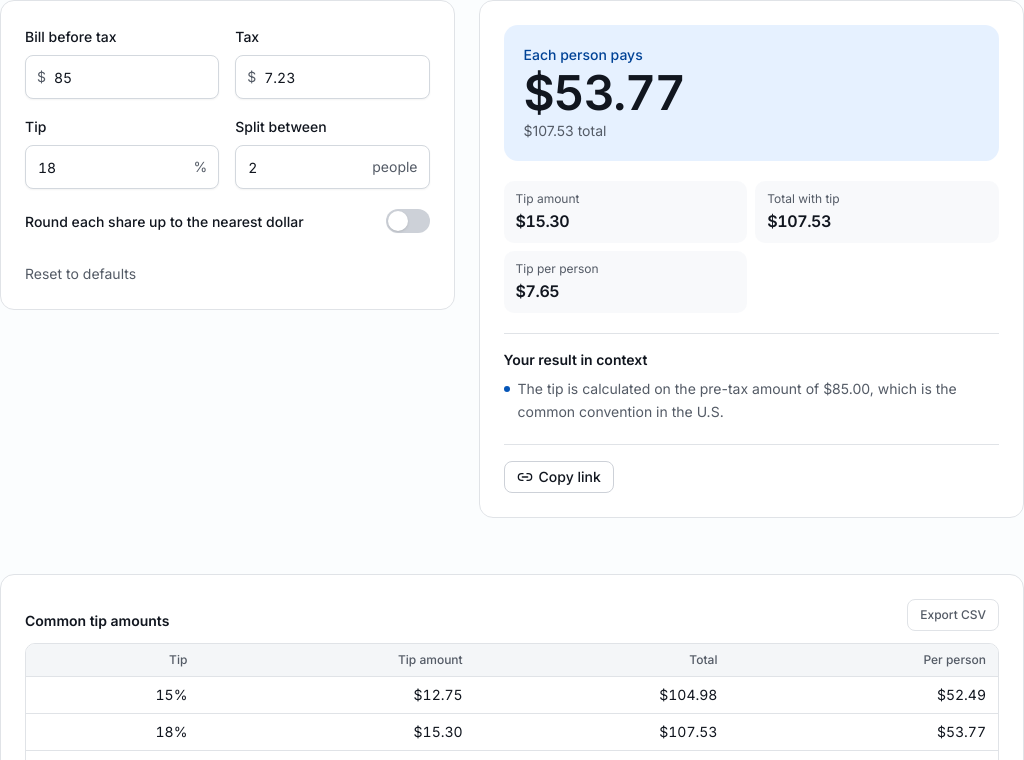
Scenario: CalculatorEngine › recalculates as the user types, replacing selected text
Click the field labelled "Split between" at coordinates (332, 167), box x1=235 y1=145 x2=430 y2=189
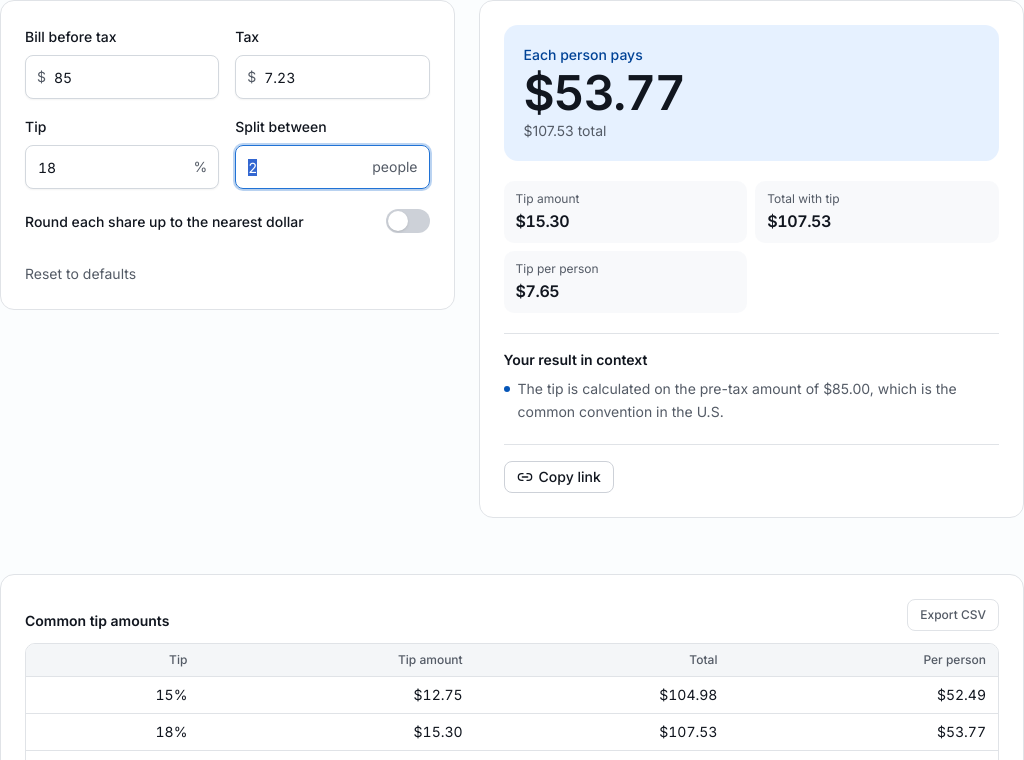
Type keys "1"
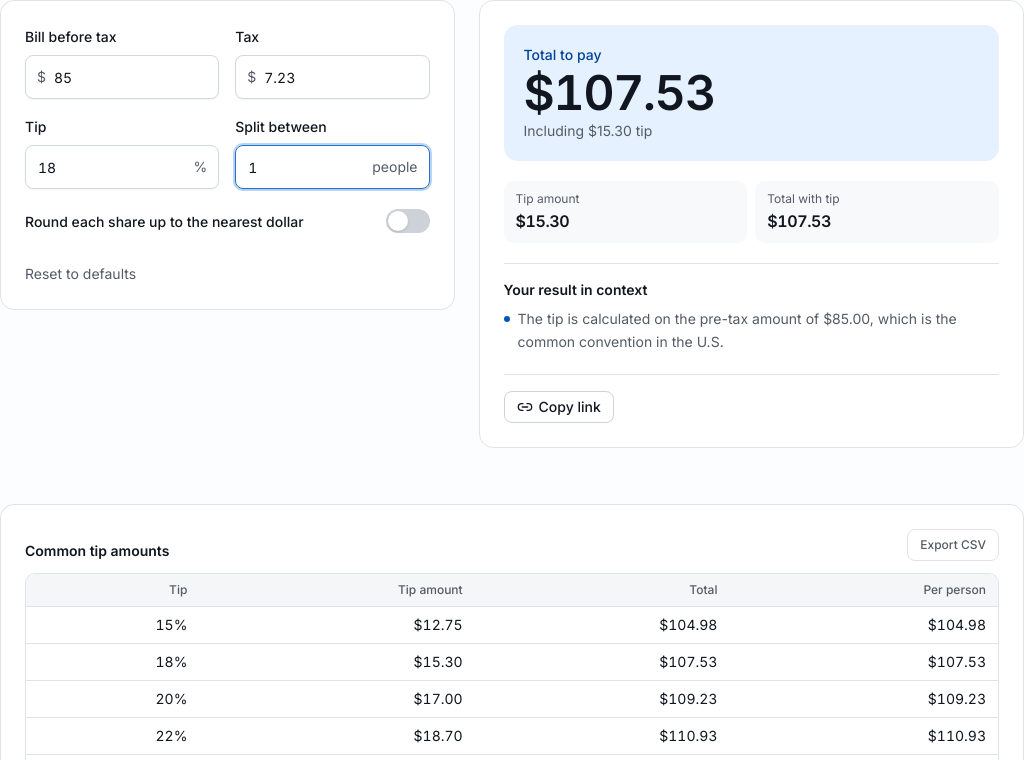
expect the field labelled "Split between" holds "1": met, box x1=235 y1=145 x2=430 y2=189
expect the text with test id "primary-result" reads "$107.53": met, box x1=524 y1=63 x2=714 y2=122
